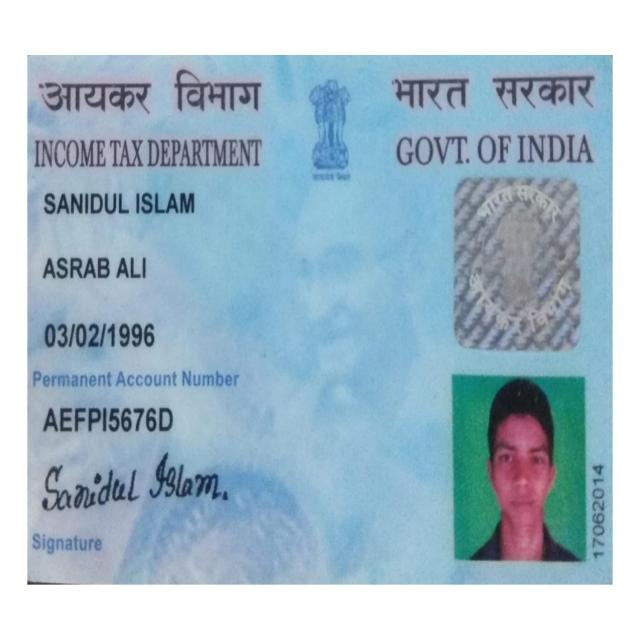pan_card: (29, 58, 612, 585)
